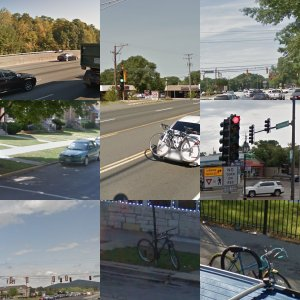棕梠樹: (12, 217, 55, 300)
汽車: (21, 75, 57, 99)
紅綠燈: (35, 121, 65, 198)
腳踏車: (144, 45, 201, 99), (218, 28, 276, 77), (249, 224, 289, 269)
